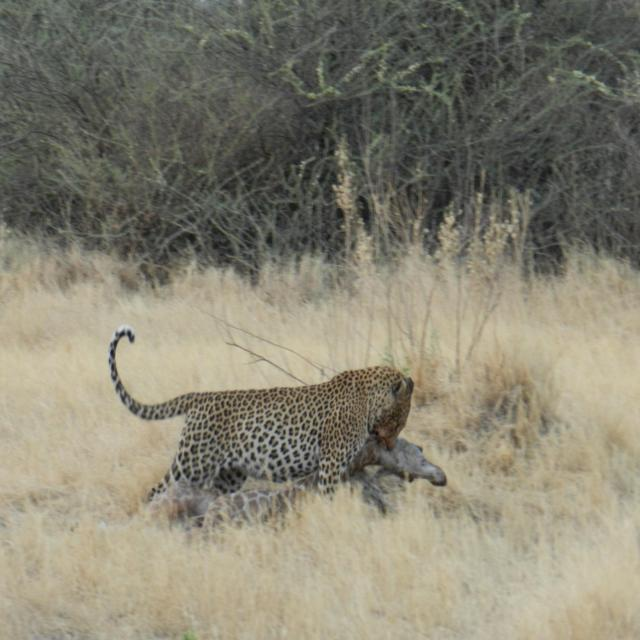Leopard: (106, 334, 440, 535)
